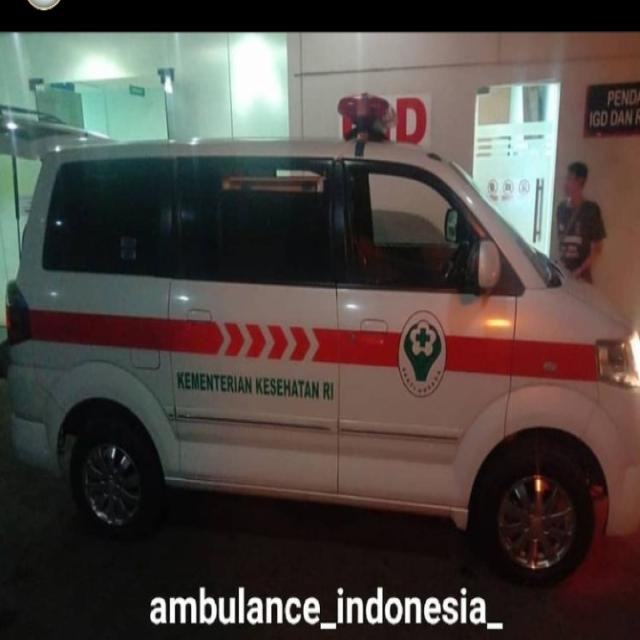emergency-vehicle: (5, 133, 639, 584)
